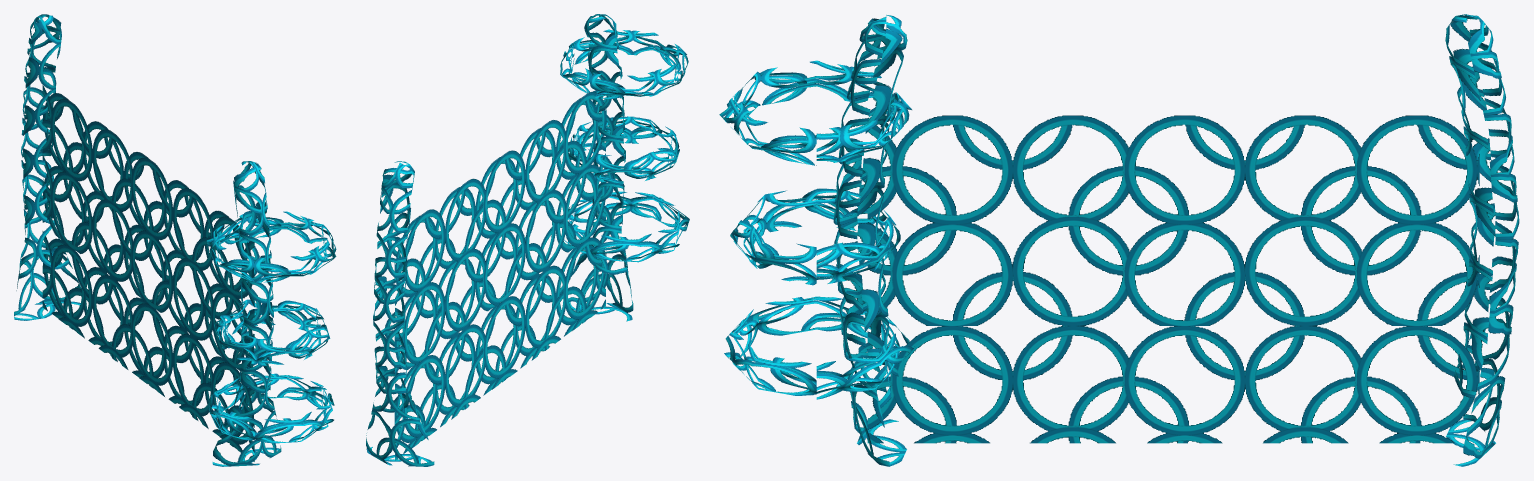
File: fence-chainlink.FBX
The picture shows the model from 3 angles, left to right: view 1: azimuth 30°, elevation 25°; view 2: azimuth 150°, elevation 25°; view 3: azimuth 270°, elevation 25°; orthographic projection. The views are drawn at different scales.
Parts seen in each view (by area): view 1: Torus010; view 2: Torus010; view 3: Torus010.
Part boxes in pixels (x1=…): Torus010: x1=14, y1=14, x2=336, y2=466; Torus010: x1=366, y1=14, x2=689, y2=466; Torus010: x1=719, y1=14, x2=1519, y2=466.
Size of the model in its own units: 0.5495 by 1.31 by 2.23.
Materials: 1 (1 with a texture image).
